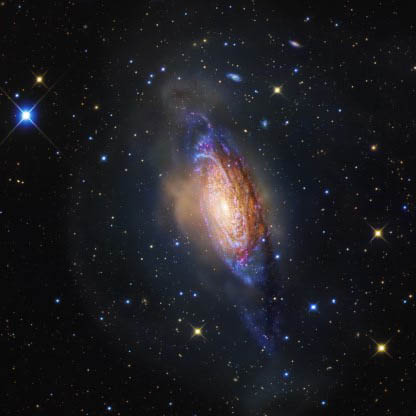NGC 3521: (32, 60, 333, 344)
